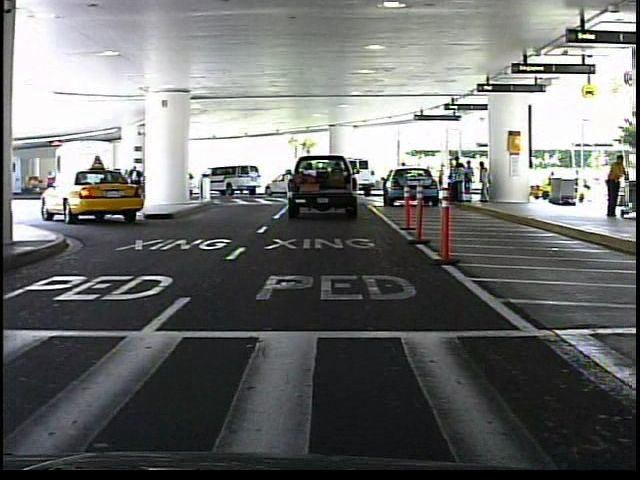person: (601, 149, 631, 221), (397, 158, 412, 198)
